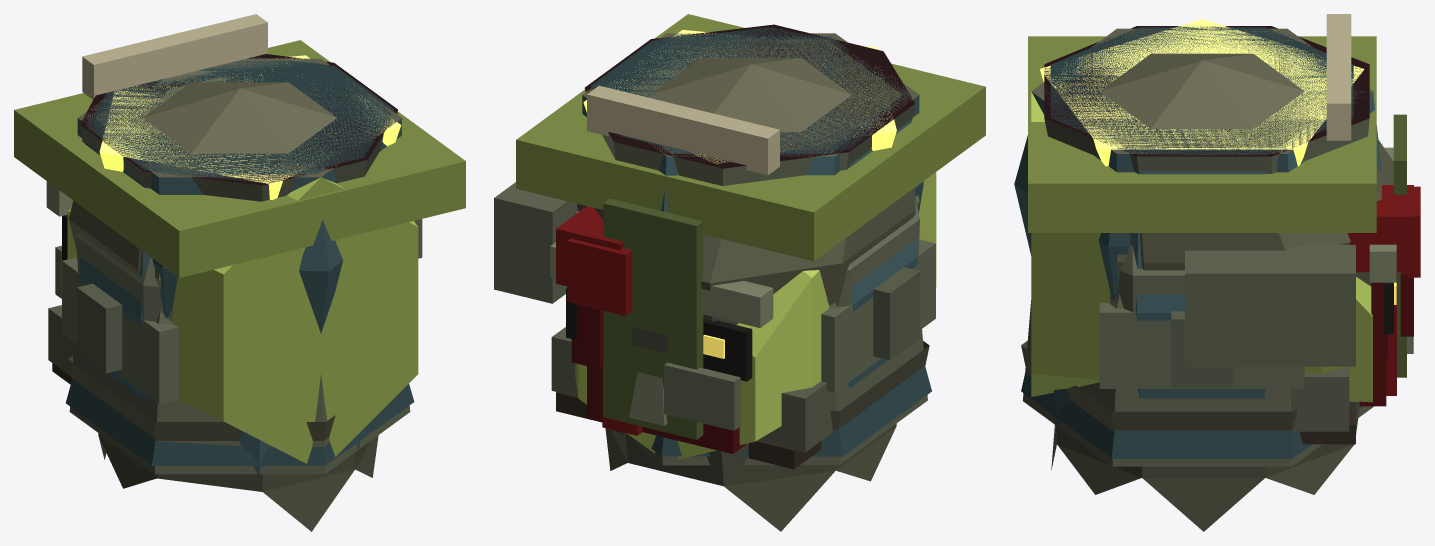
File: spitter.glb
The picture shows the model from 3 angles, left to right: view 1: azimuth 30°, elevation 25°; view 2: azimuth 150°, elevation 25°; view 3: azimuth 270°, elevation 25°; orthographic projection. The views are drawn at different scales.
Visible parts, largest first — view 1: hips, footR, headJaw, shinR, uArmDeltR, torso, handR, head, uArmR, neck, fxDrool, fArmR (+2 smaller); view 2: torso, hips, headJaw, handR, head, footR, uArmDeltR, fArmR, shinR, neck, uArmR, torsoBelly (+2 smaller); view 3: hips, handR, torso, fxDrool, headJaw, footR, uArmDeltR, shinR, fArmR, head, neck, uArmR (+2 smaller).
Part boxes in pixels (bbox=[...]): hips: bbox=[14, 40, 465, 474]; footR: bbox=[67, 177, 418, 463]; headJaw: bbox=[80, 14, 397, 201]; shinR: bbox=[66, 61, 414, 465]; uArmDeltR: bbox=[143, 82, 336, 153]; torso: bbox=[55, 77, 378, 531]; handR: bbox=[48, 70, 422, 404]; head: bbox=[46, 181, 172, 373]; uArmR: bbox=[68, 58, 401, 440]; neck: bbox=[69, 343, 410, 474]; fxDrool: bbox=[99, 55, 401, 199]; fArmR: bbox=[95, 88, 346, 291]; torso: bbox=[567, 188, 914, 531]; hips: bbox=[516, 14, 985, 388]; headJaw: bbox=[584, 24, 915, 435]; handR: bbox=[494, 45, 935, 469]; head: bbox=[550, 201, 920, 425]; footR: bbox=[575, 172, 936, 459]; uArmDeltR: bbox=[650, 58, 851, 309]; fArmR: bbox=[587, 39, 919, 453]; shinR: bbox=[631, 36, 931, 456]; neck: bbox=[615, 329, 927, 465]; uArmR: bbox=[583, 33, 929, 430]; torsoBelly: bbox=[556, 206, 667, 353]; hips: bbox=[1028, 27, 1376, 426]; handR: bbox=[1094, 44, 1355, 444]; torso: bbox=[1051, 78, 1420, 531]; fxDrool: bbox=[1040, 19, 1364, 166]; headJaw: bbox=[1044, 14, 1396, 395]; footR: bbox=[1031, 92, 1372, 402]; uArmDeltR: bbox=[1100, 53, 1304, 308]; shinR: bbox=[1014, 32, 1362, 458]; fArmR: bbox=[1081, 35, 1386, 406]; head: bbox=[1110, 147, 1413, 387]; neck: bbox=[1023, 300, 1373, 466]; uArmR: bbox=[1021, 28, 1372, 431].
Bounding box in the file's own units: 1.15 × 1.34 × 1.19.
